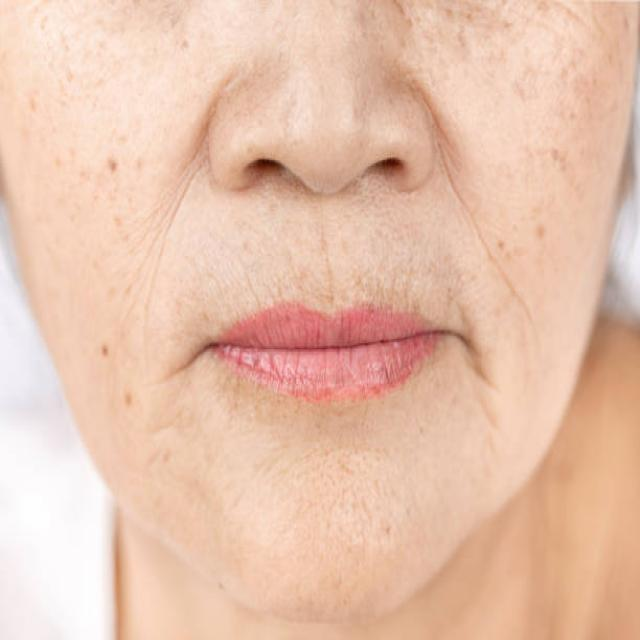Dry-Skin: (434, 21, 622, 360), (22, 29, 180, 428)
